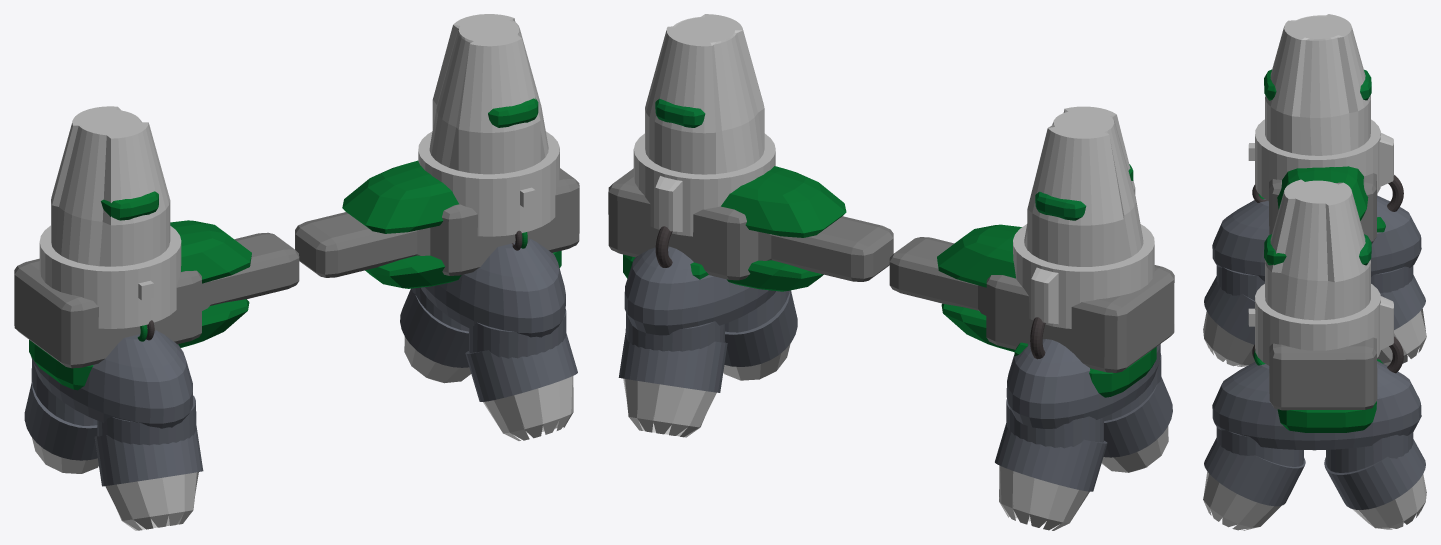
File: jetpack.fbx
3 views of the same model, side by side, from view 1: azimuth 30°, elevation 25°; view 2: azimuth 150°, elevation 25°; view 3: azimuth 270°, elevation 25° (orthographic). The views are drawn at different scales.
Visible parts, largest first — view 1: Mesh_Jetpack_Tank_ItemL, Mesh_Jetpack_Tank_ItemR, Mesh_Jetpack_Fin_ItemL, Mesh_Jetpack_Fin_ItemR, Mesh_Jetpack_NozzleYoke_ItemL, Mesh_Jetpack_NozzleYoke_ItemR, Mesh_Jetpack_StrutUpper_ItemR, Mesh_Jetpack_NozzleOuterCone_ItemR, Mesh_Jetpack_NozzleOuterCone_ItemL, Mesh_Jetpack_ExhaustOuter_ItemL, Mesh_Jetpack_ExhaustOuter_ItemR, Mesh_Jetpack_StrutUpper_ItemL (+12 smaller); view 2: Mesh_Jetpack_Tank_ItemR, Mesh_Jetpack_Tank_ItemL, Mesh_Jetpack_Fin_ItemL, Mesh_Jetpack_Fin_ItemR, Mesh_Jetpack_NozzleYoke_ItemR, Mesh_Jetpack_NozzleYoke_ItemL, Mesh_Jetpack_StrutUpper_ItemR, Mesh_Jetpack_NozzleInnerCone_ItemL, Mesh_Jetpack_NozzleInnerCone_ItemR, Mesh_Jetpack_ExhaustInner_ItemR, Mesh_Jetpack_ExhaustInner_ItemL, Mesh_Jetpack_StrutUpper_ItemL (+12 smaller); view 3: Mesh_Jetpack_Tank_ItemR, Mesh_Jetpack_Tank_ItemL, Mesh_Jetpack_NozzleYoke_ItemR, Mesh_Jetpack_Fin_ItemR, Mesh_Jetpack_NozzleYoke_ItemL, Mesh_Jetpack_NozzleOuterCone_ItemR, Mesh_Jetpack_NozzleInnerCone_ItemR, Mesh_Jetpack_ExhaustOuter_ItemR, Mesh_Jetpack_Housing_ItemR, Mesh_Jetpack_NozzleInnerCollar_ItemR, Mesh_Jetpack_NozzleOuterCone_ItemL, Mesh_Jetpack_ExhaustInner_ItemR (+11 smaller).
Part boxes in pixels (x1,y1,x2,y2): Mesh_Jetpack_Tank_ItemL: (39, 106, 181, 328); Mesh_Jetpack_Tank_ItemR: (418, 14, 559, 236); Mesh_Jetpack_Fin_ItemL: (14, 232, 299, 368); Mesh_Jetpack_Fin_ItemR: (295, 168, 579, 277); Mesh_Jetpack_NozzleYoke_ItemL: (31, 330, 192, 428); Mesh_Jetpack_NozzleYoke_ItemR: (421, 239, 565, 337); Mesh_Jetpack_StrutUpper_ItemR: (342, 160, 458, 233); Mesh_Jetpack_NozzleOuterCone_ItemR: (465, 333, 577, 401); Mesh_Jetpack_NozzleOuterCone_ItemL: (94, 426, 203, 486); Mesh_Jetpack_ExhaustOuter_ItemL: (105, 472, 198, 530); Mesh_Jetpack_ExhaustOuter_ItemR: (483, 376, 573, 440); Mesh_Jetpack_StrutUpper_ItemL: (170, 220, 251, 283); Mesh_Jetpack_Tank_ItemR: (633, 14, 775, 236); Mesh_Jetpack_Tank_ItemL: (1013, 106, 1154, 328); Mesh_Jetpack_Fin_ItemL: (889, 237, 1174, 372); Mesh_Jetpack_Fin_ItemR: (608, 168, 893, 281); Mesh_Jetpack_NozzleYoke_ItemR: (624, 246, 775, 335); Mesh_Jetpack_NozzleYoke_ItemL: (1006, 339, 1160, 428); Mesh_Jetpack_StrutUpper_ItemR: (721, 166, 846, 237); Mesh_Jetpack_NozzleInnerCone_ItemL: (995, 423, 1107, 491); Mesh_Jetpack_NozzleInnerCone_ItemR: (618, 332, 727, 392); Mesh_Jetpack_ExhaustInner_ItemR: (623, 378, 716, 437); Mesh_Jetpack_ExhaustInner_ItemL: (999, 465, 1089, 530); Mesh_Jetpack_StrutUpper_ItemL: (937, 224, 1021, 287); Mesh_Jetpack_Tank_ItemR: (1248, 179, 1393, 365); Mesh_Jetpack_Tank_ItemL: (1248, 14, 1393, 201); Mesh_Jetpack_NozzleYoke_ItemR: (1212, 361, 1421, 450); Mesh_Jetpack_Fin_ItemR: (1269, 337, 1377, 410); Mesh_Jetpack_NozzleYoke_ItemL: (1212, 195, 1421, 281); Mesh_Jetpack_NozzleOuterCone_ItemR: (1204, 438, 1305, 506); Mesh_Jetpack_NozzleInnerCone_ItemR: (1324, 439, 1425, 509); Mesh_Jetpack_ExhaustOuter_ItemR: (1203, 472, 1281, 530); Mesh_Jetpack_Housing_ItemR: (1277, 359, 1383, 432); Mesh_Jetpack_NozzleInnerCollar_ItemR: (1326, 432, 1413, 472); Mesh_Jetpack_NozzleOuterCone_ItemL: (1204, 276, 1254, 344); Mesh_Jetpack_ExhaustInner_ItemR: (1352, 474, 1426, 529).
Bounding box in the file's own units: 94.39 × 65.69 × 39.73.
